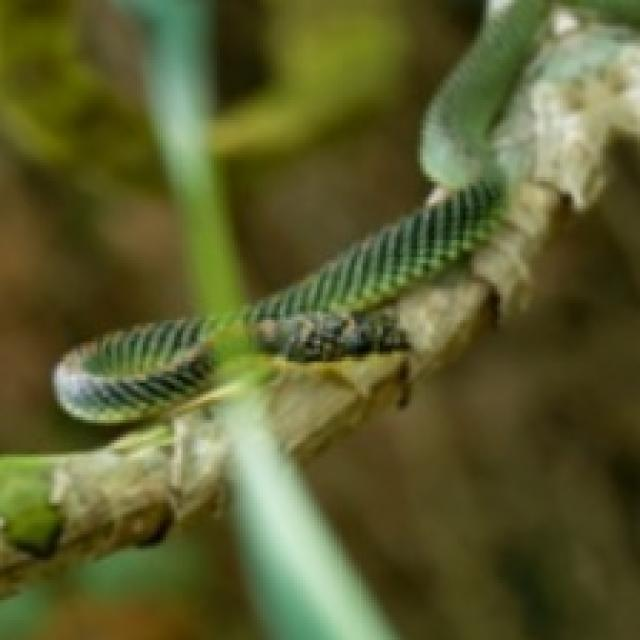paradise tree snake: (54, 0, 637, 420), (51, 180, 503, 423)
